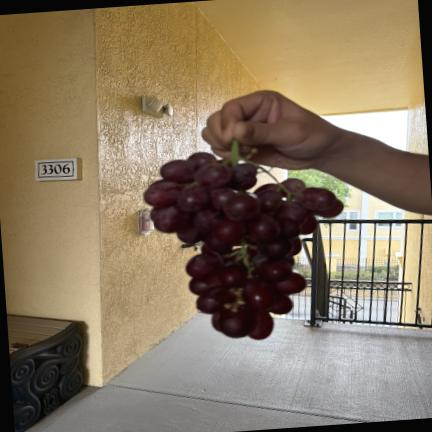grape_cluster: (144, 141, 343, 339)
